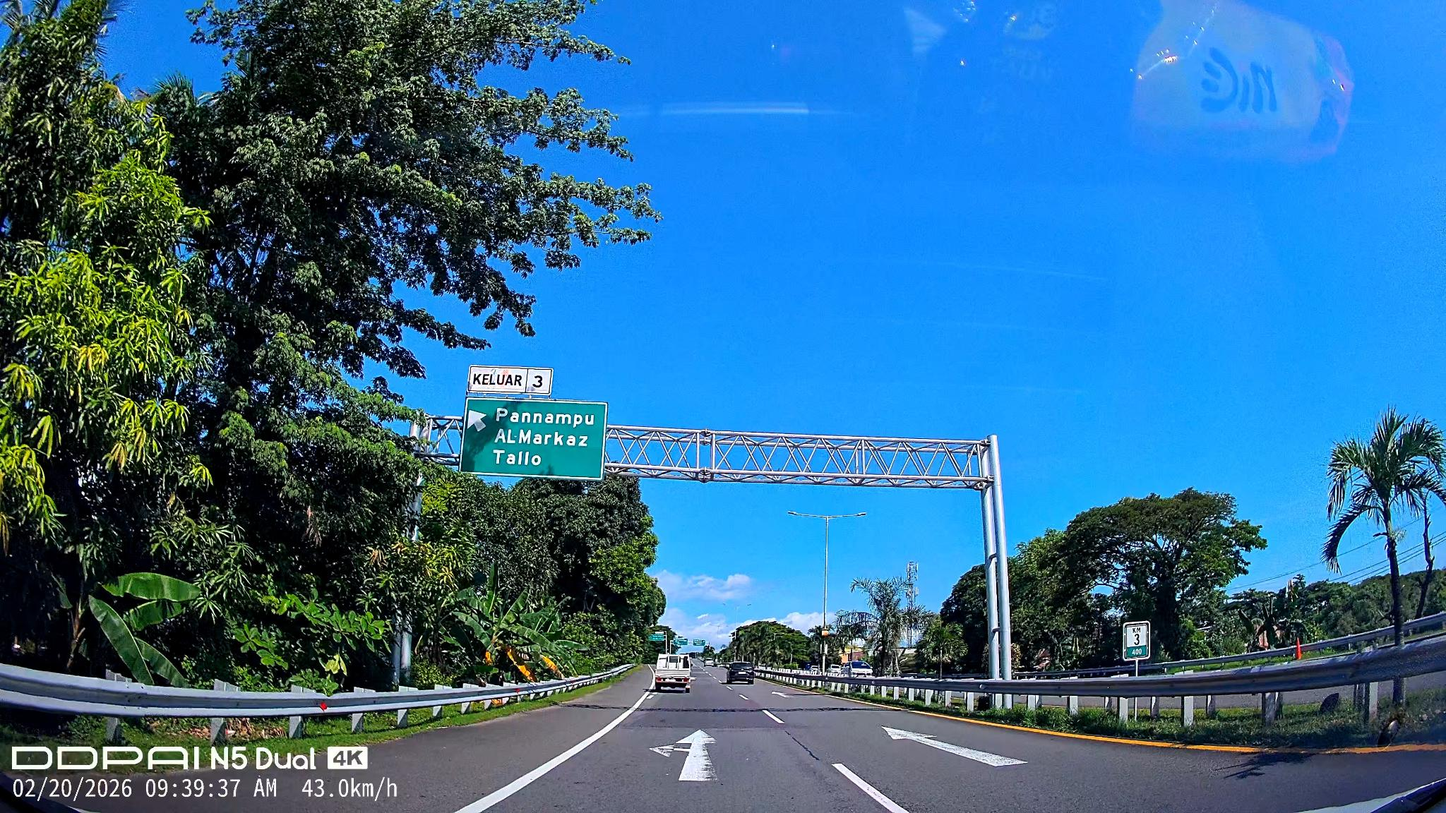rambu_teks: (458, 397, 609, 481)
